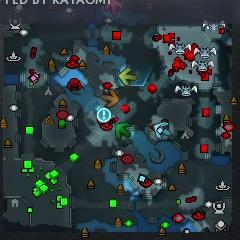x1: (104, 0, 124, 17)
x2: (119, 66, 137, 86)
x3: (154, 121, 171, 139)
x4: (115, 122, 132, 138)
x5: (102, 89, 120, 108)
